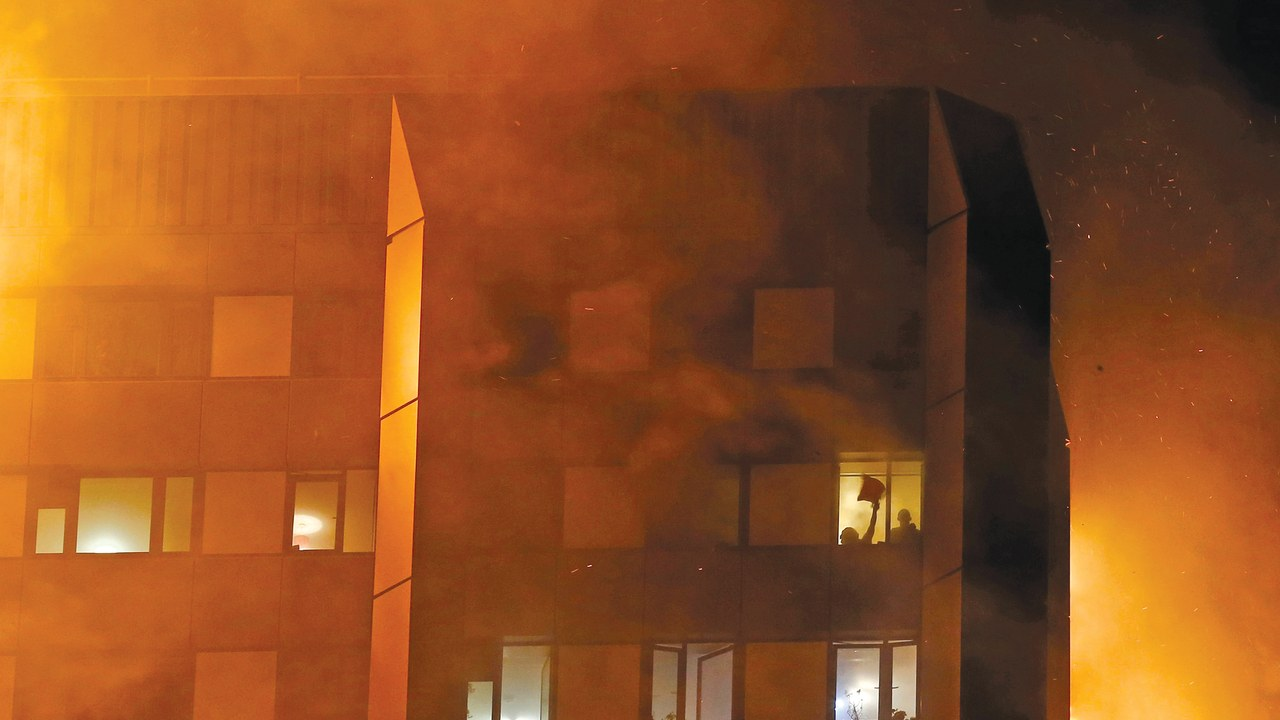Fire: (1072, 523, 1182, 712), (7, 43, 80, 252), (834, 452, 932, 554)
